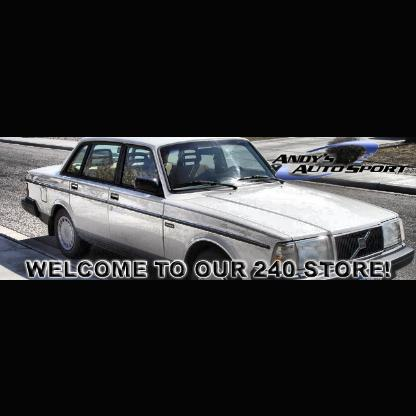Volvo 240 Sedan 1993: (22, 137, 416, 279)
